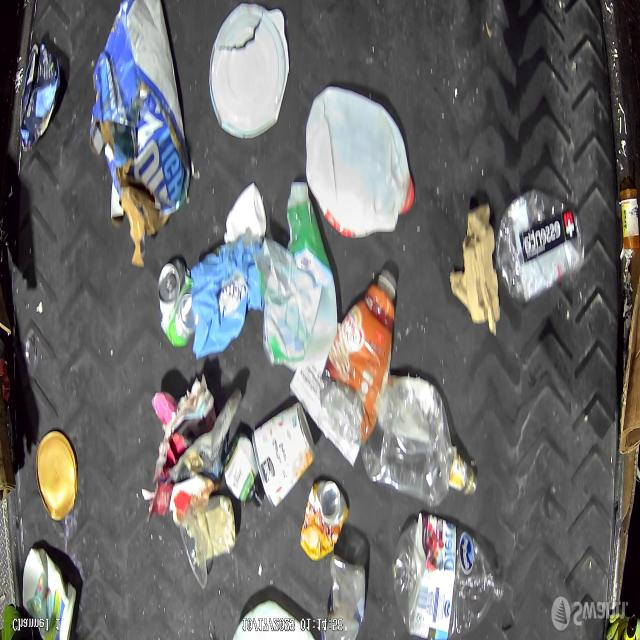can: (252, 402, 316, 508), (298, 477, 347, 562), (157, 258, 195, 349)
milk_jug: (306, 85, 415, 238)
plastic_bottle: (392, 514, 504, 636)
